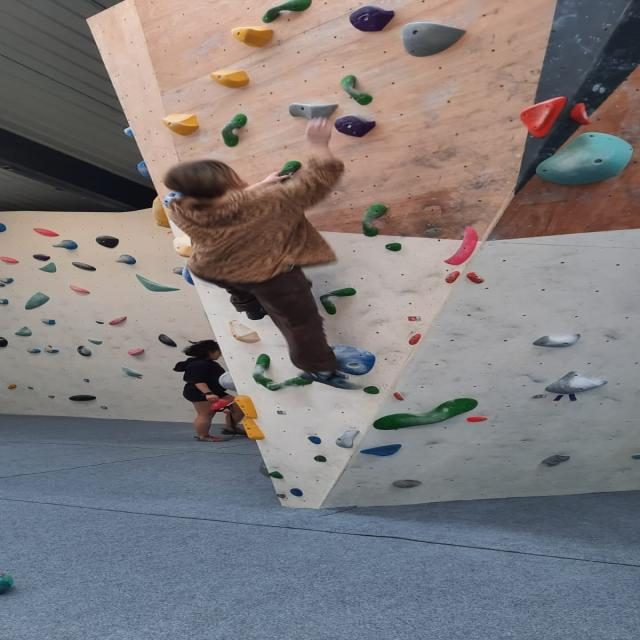Crimp: (566, 101, 600, 128)
Jug: (368, 396, 487, 431), (538, 369, 616, 402), (347, 2, 396, 34), (314, 284, 358, 317), (339, 73, 377, 108), (356, 203, 392, 239), (336, 114, 379, 144), (285, 96, 340, 118), (222, 111, 252, 151), (525, 331, 588, 349)
Pinch: (228, 394, 268, 420), (237, 414, 267, 442), (329, 429, 364, 451)
Pocket: (330, 344, 379, 376)
Sloper: (530, 129, 637, 188), (396, 19, 471, 61), (517, 92, 570, 142), (442, 224, 480, 269), (230, 23, 278, 51), (162, 113, 206, 142), (127, 272, 180, 294), (212, 66, 254, 90), (226, 320, 264, 344), (358, 441, 406, 456), (19, 292, 53, 312), (31, 223, 65, 242), (60, 282, 94, 295), (34, 262, 63, 274), (0, 255, 23, 267)
